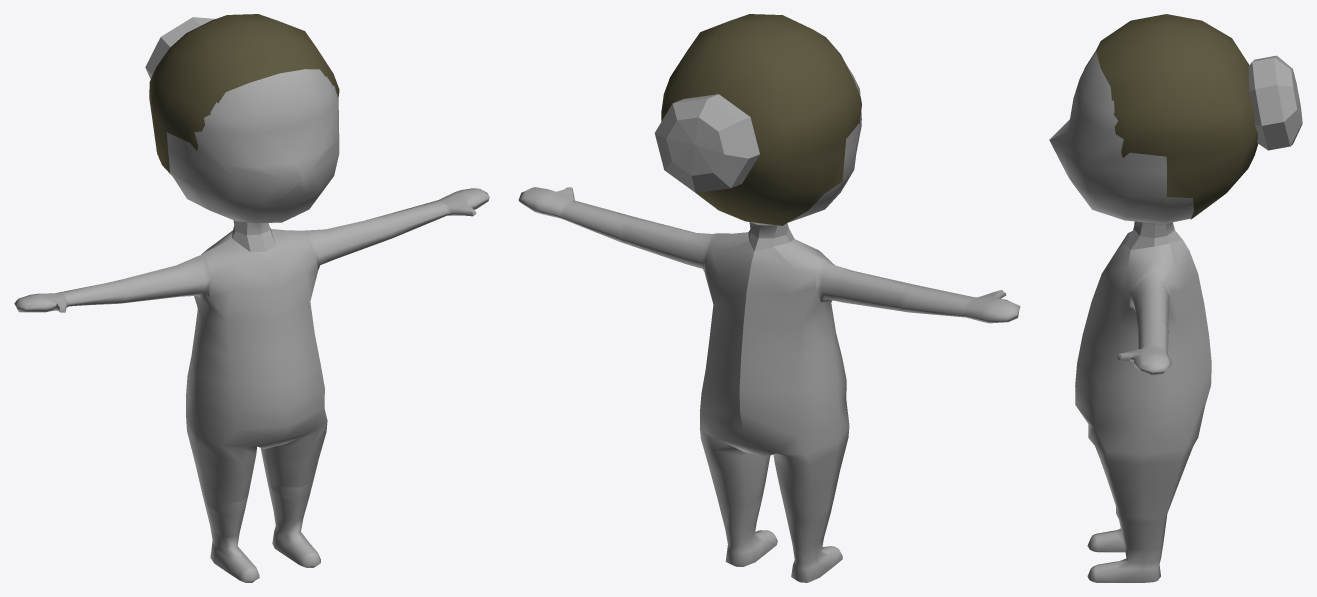
The model's file is f-hair bun.fbx.
3 renders of one model, left to right at view 1: azimuth 30°, elevation 25°; view 2: azimuth 150°, elevation 25°; view 3: azimuth 270°, elevation 25°, orthographic. The views are drawn at different scales.
Parts seen in each view (by area): view 1: polySurface12, f_hairstlye_bun; view 2: polySurface12, f_hairstlye_bun; view 3: polySurface12, f_hairstlye_bun.
Part boxes in pixels (x1,y1,x2,y2): polySurface12: (14,69,489,582); f_hairstlye_bun: (145,14,339,175); polySurface12: (518,66,1020,582); f_hairstlye_bun: (654,14,861,225); polySurface12: (1049,51,1211,582); f_hairstlye_bun: (1096,14,1302,219).
Size of the model in its own units: 1.16 by 1.24 by 0.5287.
